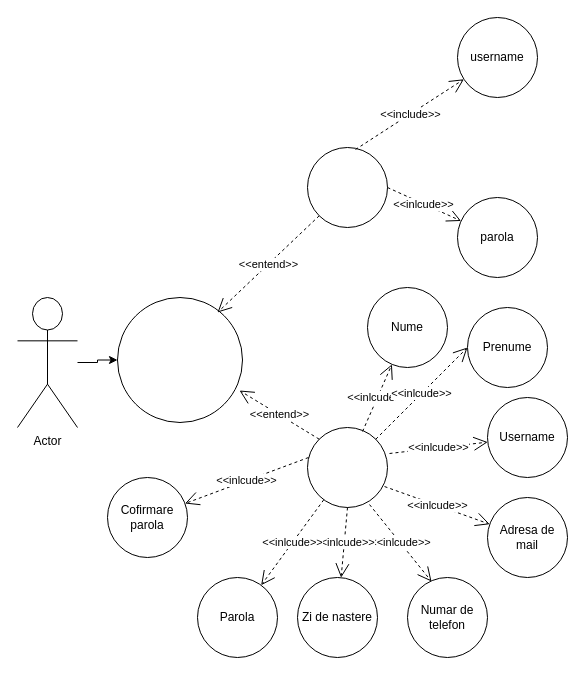
Image size: 585x675. Some labels were removed from this diagram. The shapes that lost their labels are listed below. From the top down, each one's box as (x1, y1, x2, y2) in pixels, then its label:
(306, 146, 388, 228): Autentificare
(116, 296, 242, 422): Pagina autentificare/inregistrare
(306, 426, 388, 508): Inregistrare
